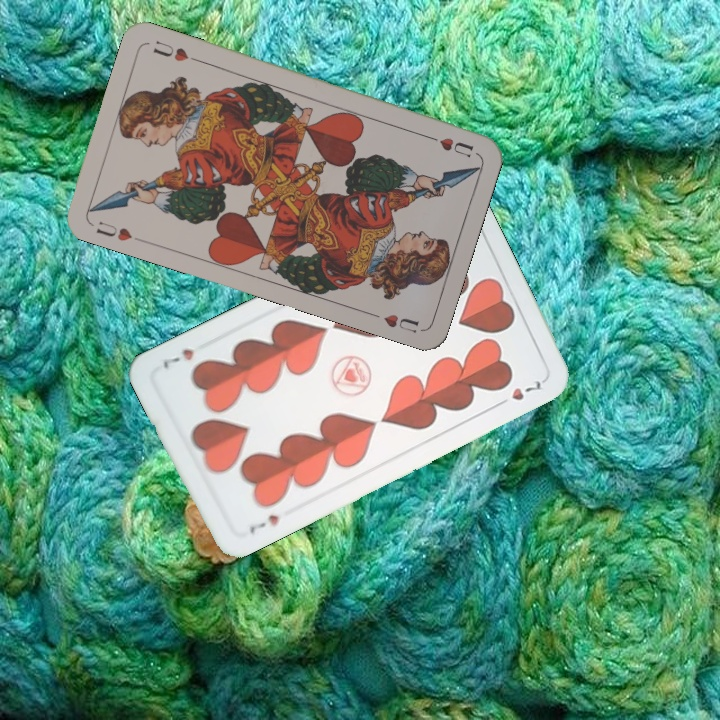H7: (245, 510, 282, 536)
HU: (421, 130, 476, 160), (92, 216, 135, 244)
